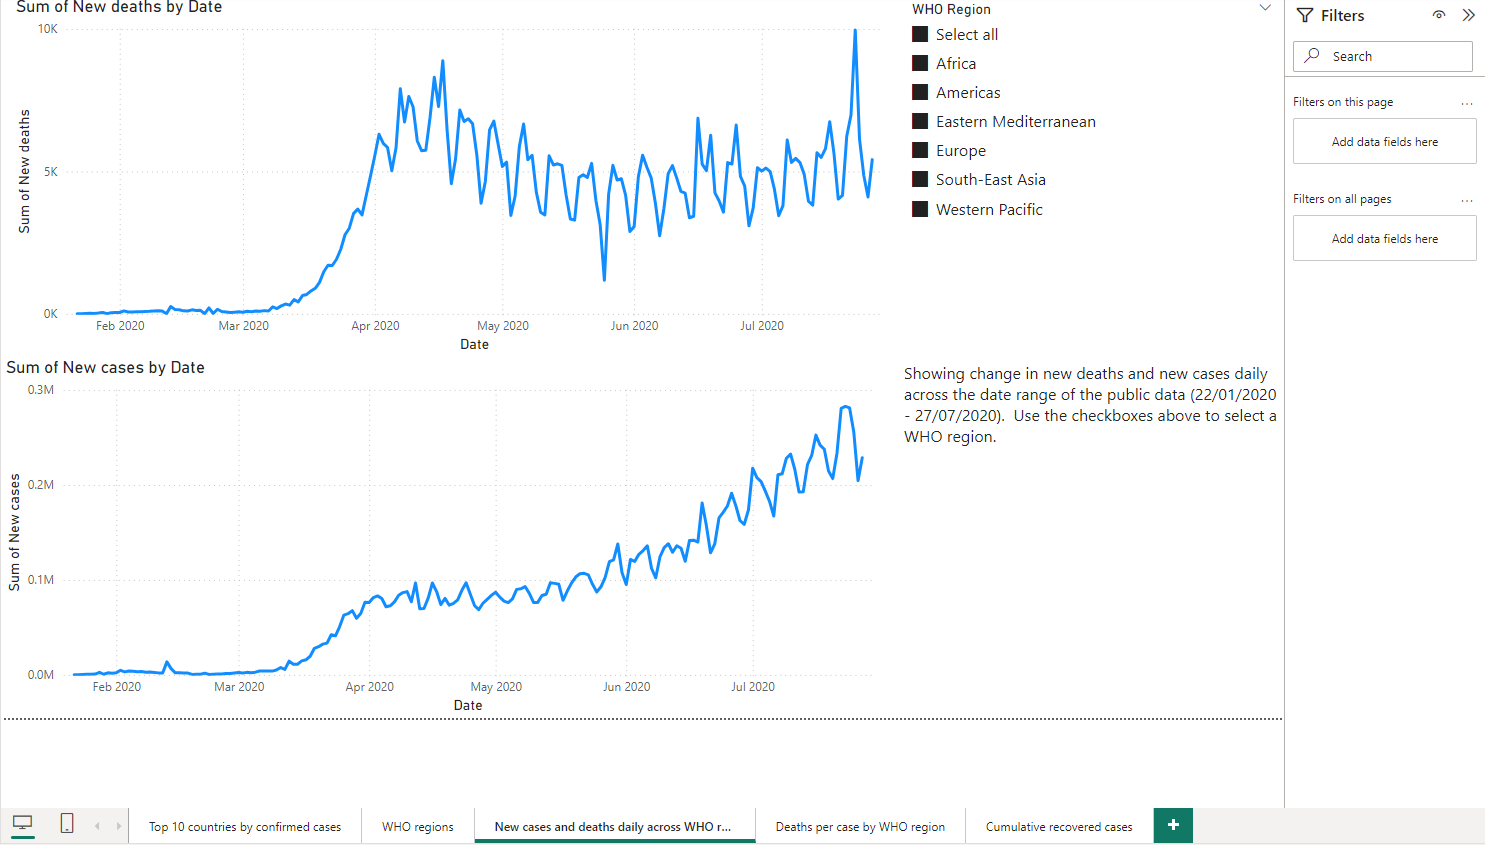

What the dashboard file says about the page in this screenshot:
{"tool":"powerbi","page":{"name":"New cases and deaths daily across WHO region","canvas":[1280,720],"ordinal":2},"visuals":[{"type":"lineChart","fields":{"Category":["full_grouped.Date"],"Y":["Sum(full_grouped.New deaths)"]},"box":[10.5,0,886.2,360.1],"z":0},{"type":"lineChart","fields":{"Category":["full_grouped.Date"],"Y":["Sum(full_grouped.New cases)"]},"box":[0,360.1,886.2,360.1],"z":1000},{"type":"slicer","fields":{"Values":["full_grouped.WHO Region"]},"box":[895.5,0,384.5,360.1],"z":2000},{"type":"textbox","box":[896,360,384,360],"z":3000}]}

Visuals, with their boxes on the page's 1280x720 design canvas (x1, y1, x2, y2). These are canvas units, not pixel positions in the 1485x845 screenshot, which may show the page scaled, cropped or inside an application window:
lineChart - full_grouped.Date x Sum(full_grouped.New deaths): detection(10, 0, 897, 360)
lineChart - full_grouped.Date x Sum(full_grouped.New cases): detection(0, 360, 886, 720)
slicer - full_grouped.WHO Region: detection(896, 0, 1280, 360)
textbox: detection(896, 360, 1280, 720)
